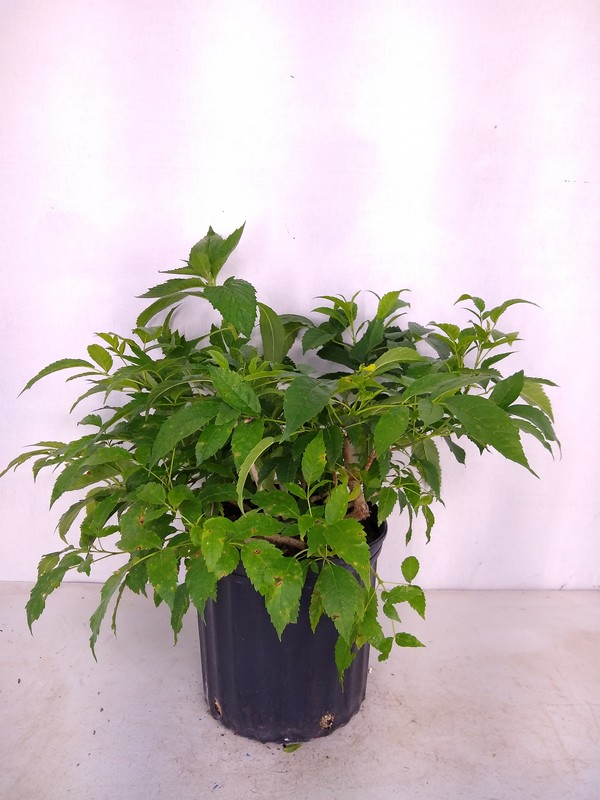plant: (2, 223, 563, 668)
pot: (196, 504, 389, 747)
